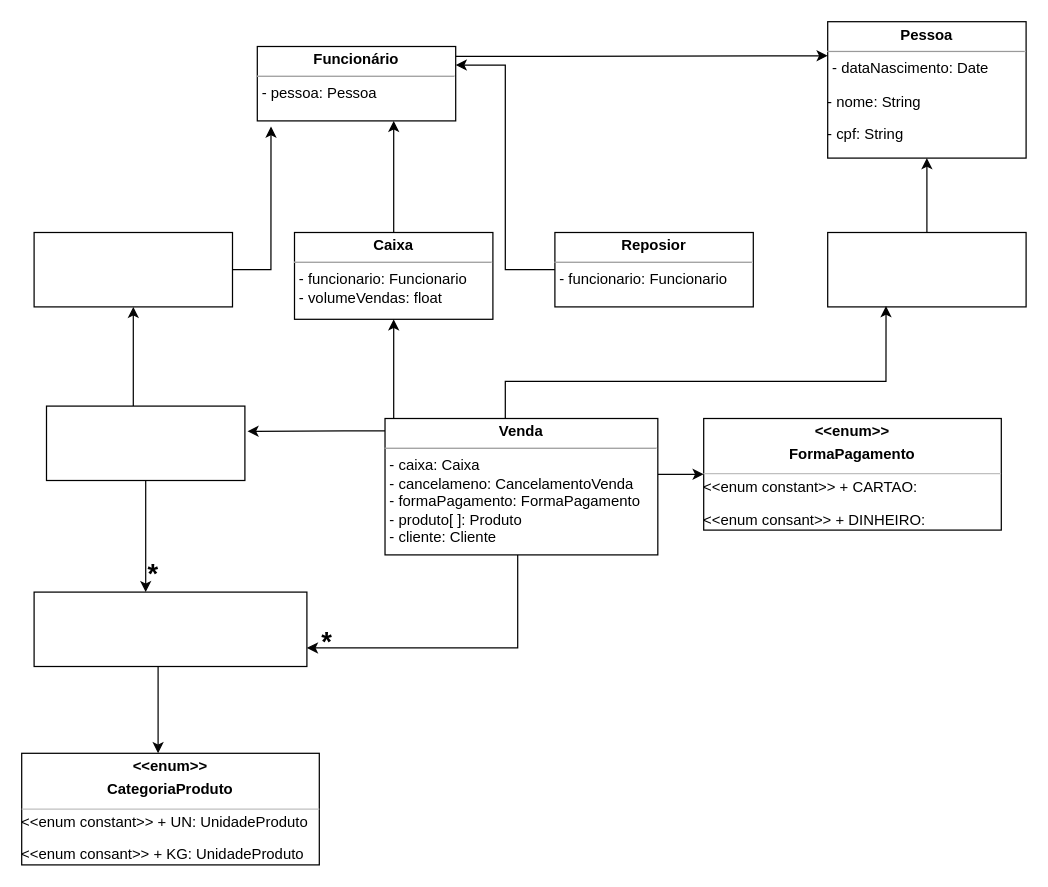
Image size: 1048x887. Some labels were removed from this diagram. The shapes that lost their labels are listed below. From the top down, each one's box as (x1, y1, x2, y2) in pixels, then its label:
(33, 231, 232, 307): Gerente - funcionario: Funcionario
(826, 231, 1026, 307): Cliente - pessoa: Pessoa
(45, 405, 245, 480): CancelamentoVenda - gerente: Gerente - produto[ ]:Produto
(33, 591, 307, 666): Produto - categoriaProduto: CategoriaProduto
